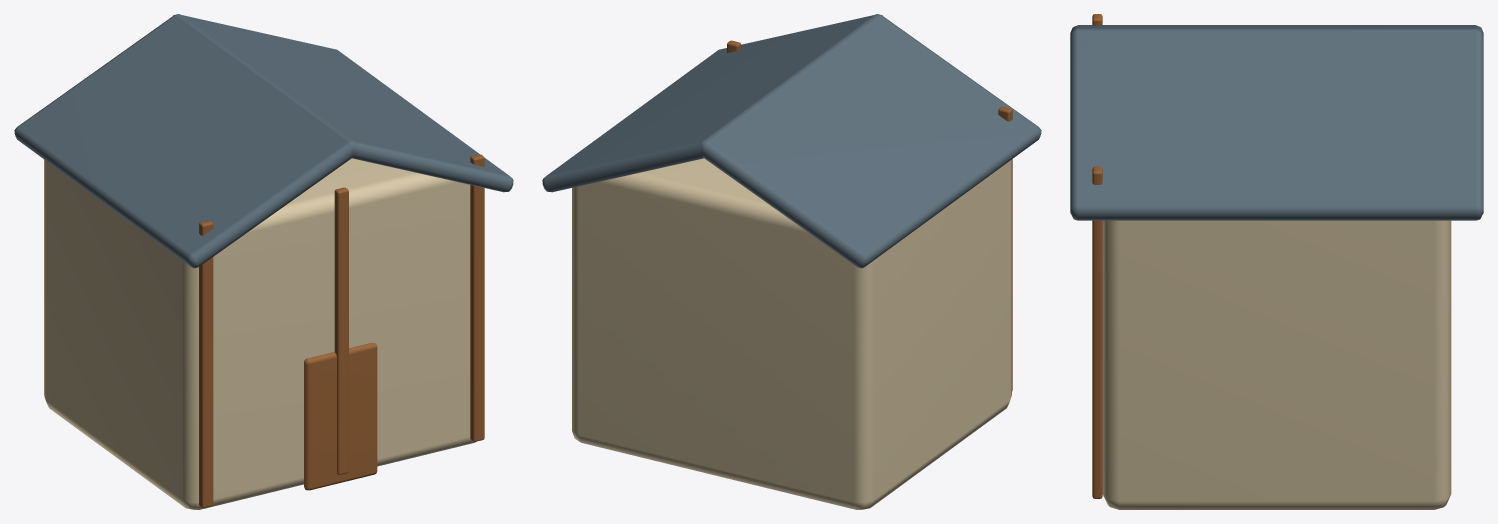
File: JPN-13.glb
3 views of the same model, side by side, from view 1: azimuth 30°, elevation 25°; view 2: azimuth 150°, elevation 25°; view 3: azimuth 270°, elevation 25° (orthographic). The views are drawn at different scales.
Parts seen in each view (by area): view 1: house, tiled roof, tiled roof.001, door, timber frame.002, timber frame.001, timber frame; view 2: house, tiled roof, tiled roof.001; view 3: house, tiled roof.001, timber frame.002, tiled roof.
Part boxes in pixels (box(x1,y1,x2,y2)): house: box(44, 158, 475, 509); tiled roof: box(14, 14, 354, 268); tiled roof.001: box(173, 14, 513, 192); door: box(304, 343, 377, 490); timber frame.002: box(470, 154, 484, 441); timber frame.001: box(334, 187, 348, 474); timber frame: box(199, 220, 213, 507); house: box(572, 158, 1011, 509); tiled roof: box(700, 14, 1041, 268); tiled roof.001: box(542, 14, 882, 192); house: box(1102, 220, 1451, 509); tiled roof.001: box(1070, 28, 1483, 220); timber frame.002: box(1092, 166, 1102, 498); tiled roof: box(1070, 25, 1483, 36).
Bounding box in the file's own units: 3.35 × 3.44 × 3.2.
